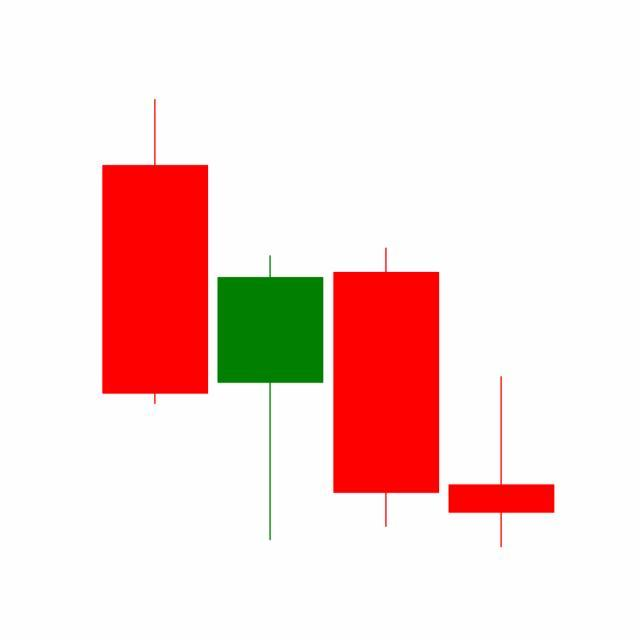Three Outside Up-Down: (211, 244, 555, 549)
